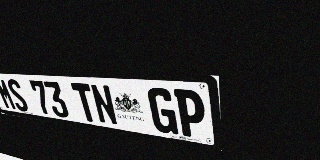3: (43, 81, 70, 118)
7: (28, 80, 55, 116)
G: (147, 87, 178, 135)
M: (0, 78, 18, 111)
N: (89, 84, 119, 126)
P: (174, 89, 207, 139)
S: (5, 79, 30, 112)
T: (70, 83, 99, 123)
